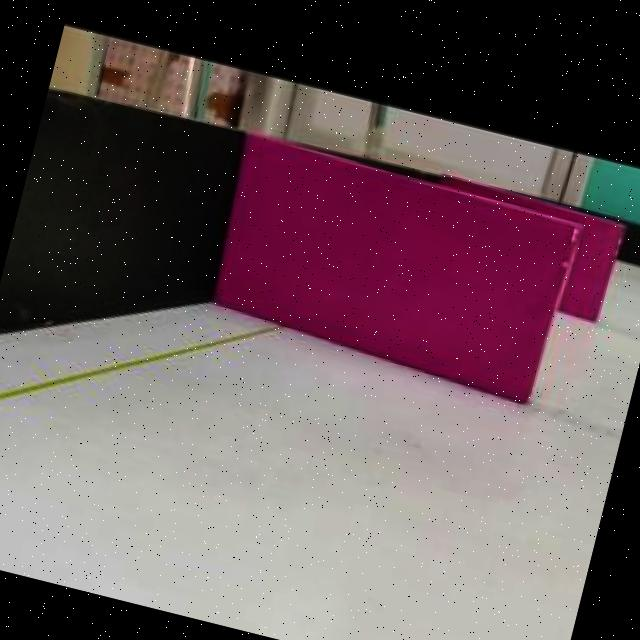xparking: (203, 138, 576, 411)
